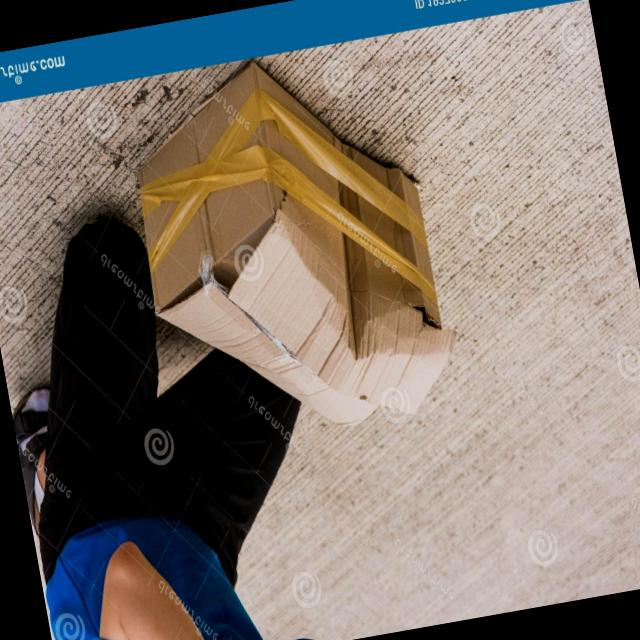Garbage: (109, 37, 474, 460)
